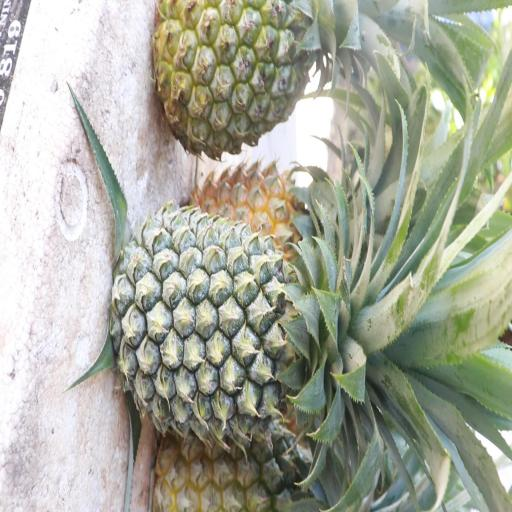------------------------------: (152, 0, 354, 153)
